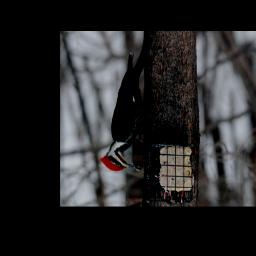Woodpecker: (100, 34, 164, 175)
